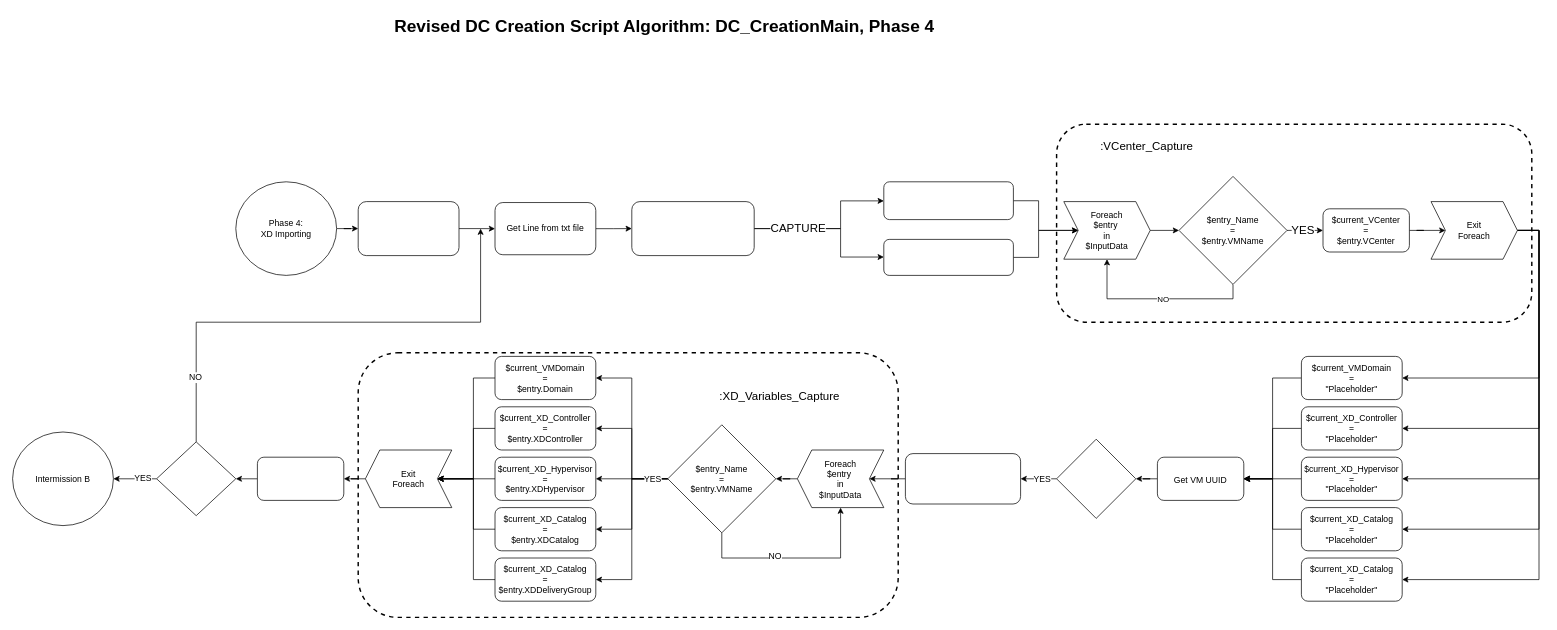
This 1557x630 diagram has some shape labels left out. Each missing label, with the centre of its shape:
$current_Vcenter = "Placeholder": pixel 948 257
$current_VMName = $array[1]: pixel 948 200
$VMUUID -is [array]?: pixel 1096 478
$VMUUID = $VMUUID[$($ArraySize - 1)]: pixel 963 478
Call XD_Worker: pixel 300 478
Get All Successes from the AD Worker Success log: pixel 408 228
Last Machine?: pixel 196 478
Split line to an array separator: tab char: pixel 692 228
